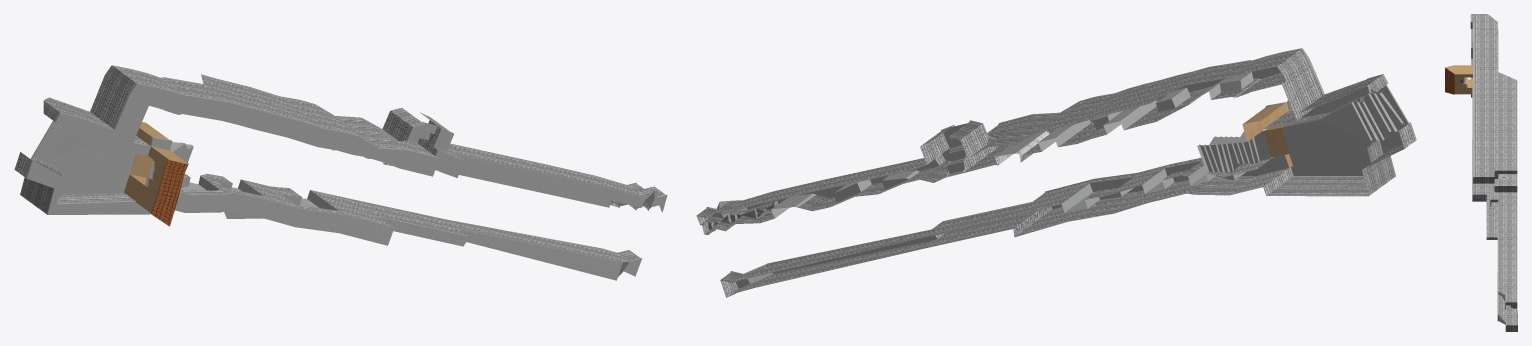
File: Harju-tn_Noelasilm-origo.obj
The picture shows the model from 3 angles, left to right: view 1: azimuth 30°, elevation 25°; view 2: azimuth 150°, elevation 25°; view 3: azimuth 270°, elevation 25°; orthographic projection. The views are drawn at different scales.
Parts seen in each view (by area): view 1: Harju_noelasilm; view 2: Harju_noelasilm; view 3: Harju_noelasilm.
Boxes of the visible parts, x1,y1,x2,y2 form: Harju_noelasilm: [14, 65, 667, 280]; Harju_noelasilm: [696, 48, 1416, 297]; Harju_noelasilm: [1445, 14, 1517, 331].
Size of the model in its own units: 42.81 by 21 by 8.
